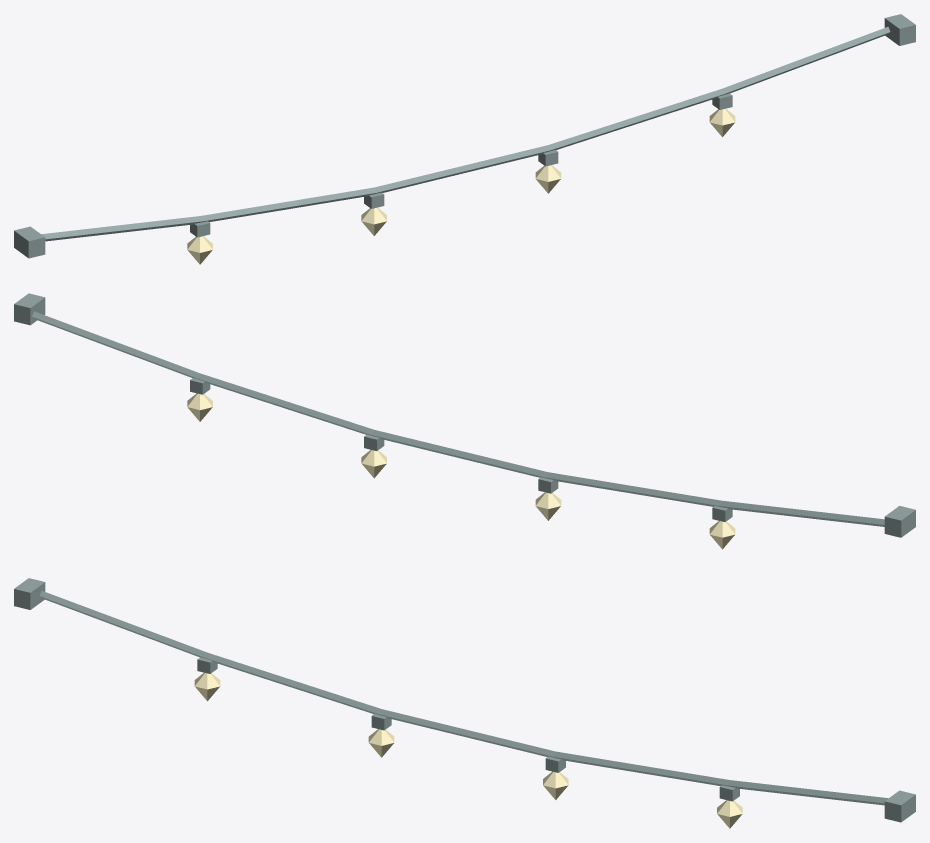
The model's file is string_lights_2.glb.
3 views of the same model, one above another, from view 1: azimuth 30°, elevation 25°; view 2: azimuth 150°, elevation 25°; view 3: azimuth 330°, elevation 25° (orthographic).
Visible parts, largest first — view 1: Cord.001, Cord.003, Cord.002, Cord.004, Cord, Mount, Mount.001; view 2: Cord.003, Cord.001, Cord.002, Cord.004, Cord, Mount, Mount.001; view 3: Cord.001, Cord.003, Cord.002, Cord, Cord.004, Mount.001, Mount.
Part boxes in pixels (<box>): Cord.001: <box>200,187,376,222</box>; Cord.003: <box>548,89,724,151</box>; Cord.002: <box>374,145,550,193</box>; Cord.004: <box>722,27,890,94</box>; Cord: <box>41,216,201,241</box>; Mount: <box>14,226,45,258</box>; Mount.001: <box>884,14,915,45</box>; Cord.003: <box>198,373,373,435</box>; Cord.001: <box>546,472,721,506</box>; Cord.002: <box>372,430,547,478</box>; Cord.004: <box>32,311,200,379</box>; Cord: <box>720,500,884,526</box>; Mount: <box>884,506,915,537</box>; Mount.001: <box>14,293,45,325</box>; Cord.001: <box>205,653,381,715</box>; Cord.003: <box>553,751,729,786</box>; Cord.002: <box>379,709,555,757</box>; Cord: <box>39,591,207,658</box>; Cord.004: <box>728,780,888,805</box>; Mount.001: <box>884,790,915,822</box>; Mount: <box>14,578,45,609</box>.
Size of the model in its own units: 0.88 by 0.0855 by 0.0301.
